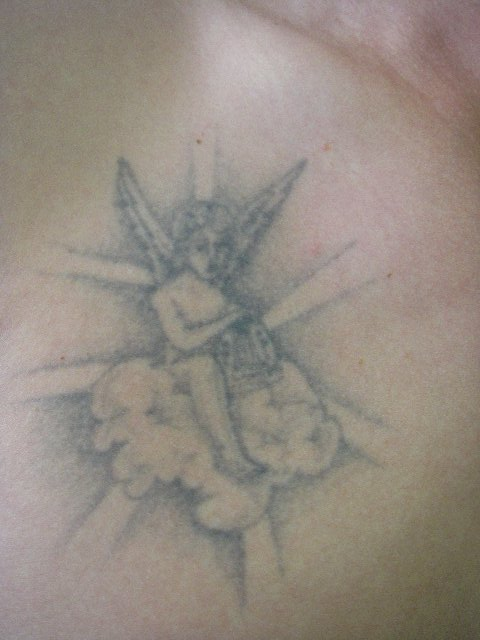tatu1_angel: (51, 130, 375, 523)
